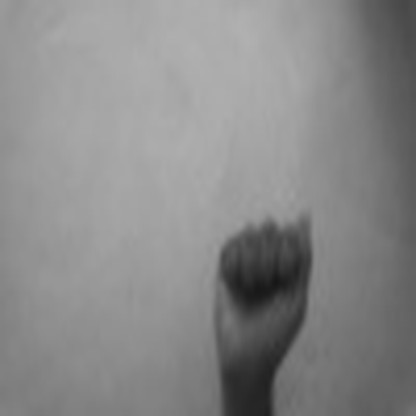a: (209, 192, 317, 372)
